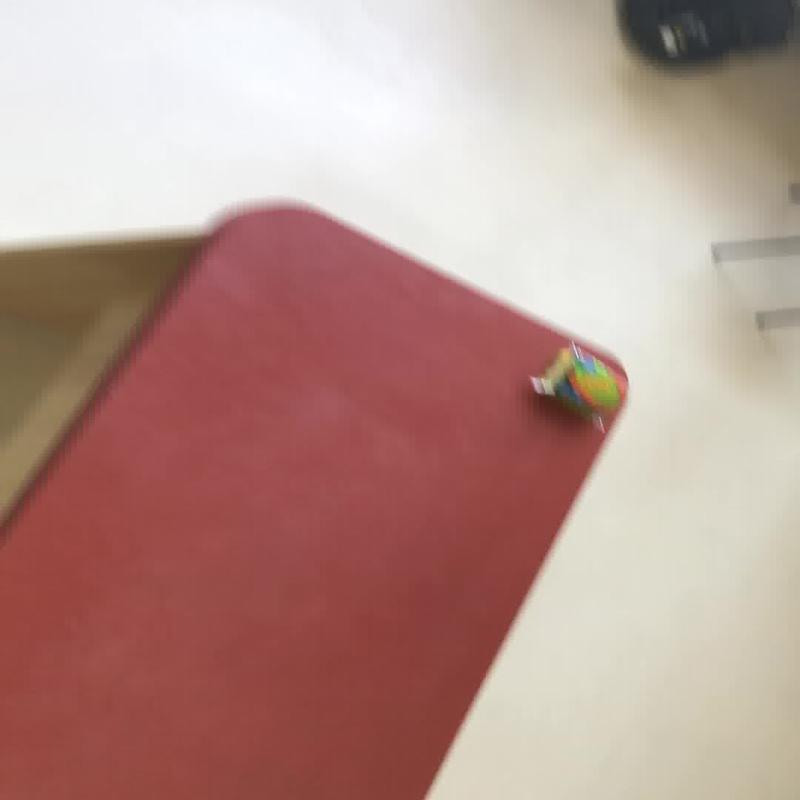sponge: (1, 196, 630, 798), (526, 339, 624, 433)
